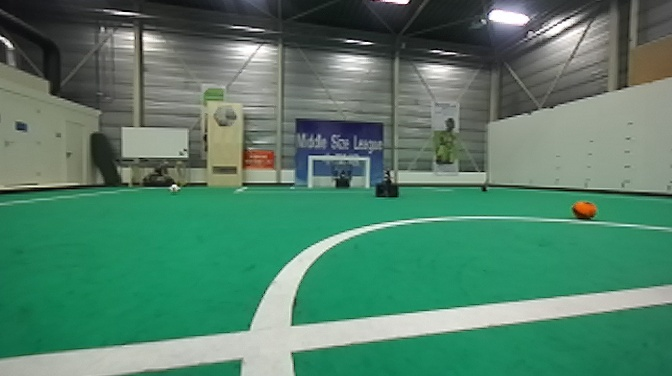ball: (572, 196, 597, 223), (168, 182, 181, 196), (480, 181, 490, 191)
goal: (307, 154, 371, 190)
robot: (373, 160, 404, 199), (329, 161, 355, 191)
